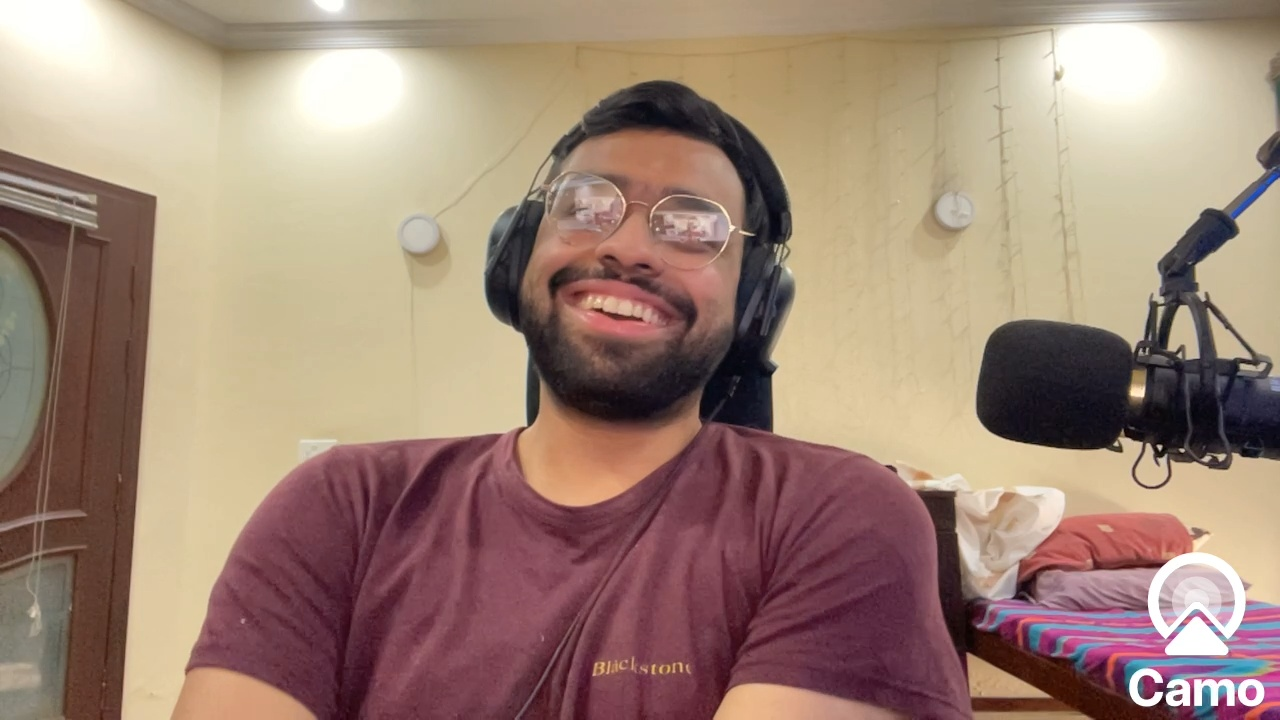happy: (530, 133, 749, 406)
